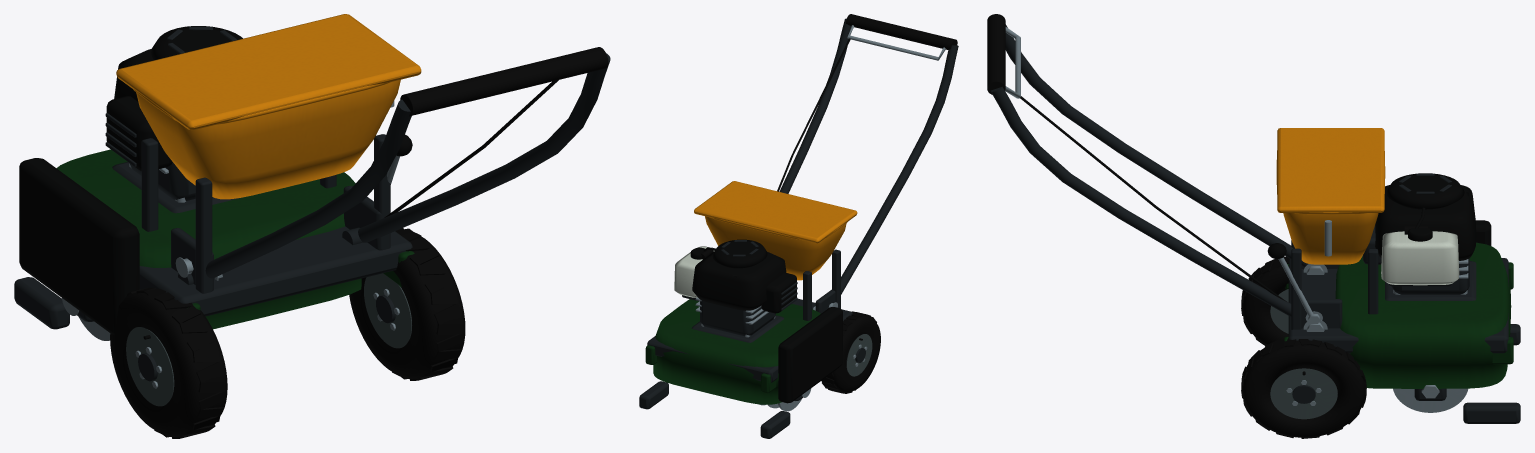
File: SlitOverseeder.gltf
3 renders of one model, left to right at view 1: azimuth 30°, elevation 25°; view 2: azimuth 150°, elevation 25°; view 3: azimuth 270°, elevation 25°, orthographic. The views are drawn at different scales.
Parts seen in each view (by area): view 1: SlitOverseeder__Body, SlitOverseeder__Wheel_Rear-1, SlitOverseeder__Wheel_Rear1; view 2: SlitOverseeder__Body, SlitOverseeder__Wheel_Rear-1; view 3: SlitOverseeder__Body, SlitOverseeder__Wheel_Rear1, SlitOverseeder__Wheel_Rear-1, SlitOverseeder__Wheel_Blades.
Boxes of the visible parts, x1=… form: SlitOverseeder__Body: x1=14, y1=14, x2=610, y2=334; SlitOverseeder__Wheel_Rear-1: x1=110, y1=287, x2=227, y2=438; SlitOverseeder__Wheel_Rear1: x1=349, y1=228, x2=465, y2=380; SlitOverseeder__Body: x1=639, y1=14, x2=958, y2=438; SlitOverseeder__Wheel_Rear-1: x1=821, y1=311, x2=880, y2=393; SlitOverseeder__Body: x1=987, y1=14, x2=1520, y2=423; SlitOverseeder__Wheel_Rear1: x1=1241, y1=338, x2=1366, y2=438; SlitOverseeder__Wheel_Rear-1: x1=1241, y1=256, x2=1289, y2=345; SlitOverseeder__Wheel_Blades: x1=1393, y1=388, x2=1468, y2=412.
Bounding box in the file's own units: 0.616 × 1 × 1.4.
1 material, 1 textured.
